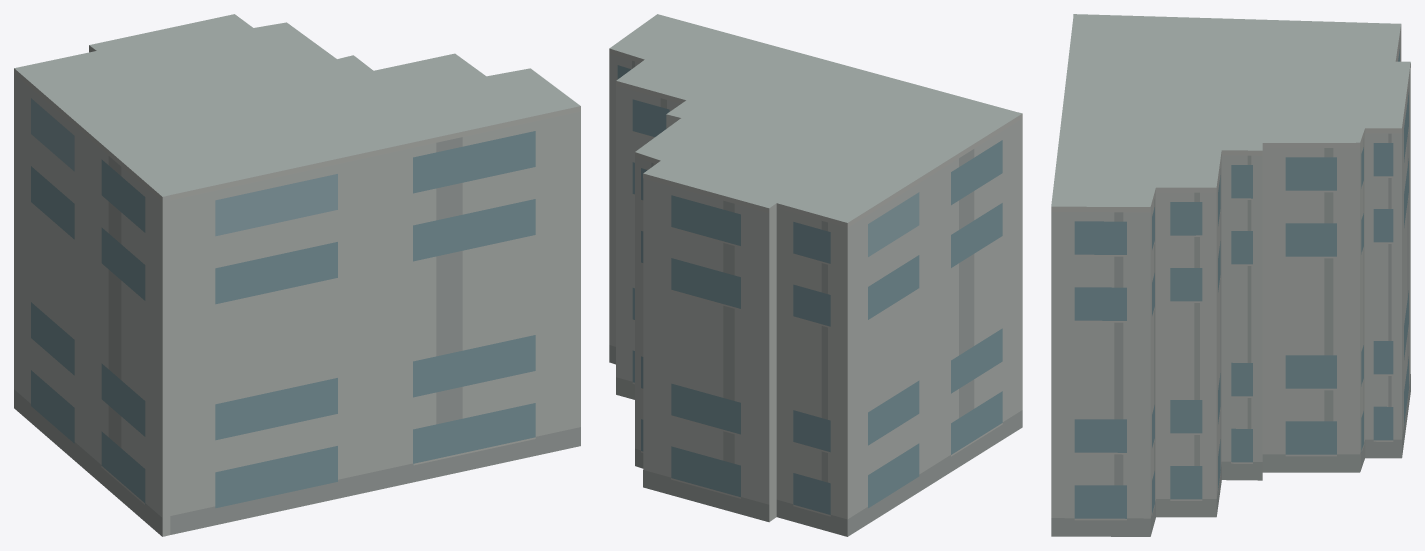
Rendered from survey-upis-32782058.glb.
3 renders of one model, left to right at view 1: azimuth 30°, elevation 25°; view 2: azimuth 150°, elevation 25°; view 3: azimuth 270°, elevation 25°, orthographic. The views are drawn at different scales.
Parts seen in each view (by area): view 1: survey-upis-32782058.tmp; view 2: survey-upis-32782058.tmp; view 3: survey-upis-32782058.tmp.
Boxes of the visible parts, box(x1,y1,x2,y2) form: survey-upis-32782058.tmp: box(14, 14, 580, 536); survey-upis-32782058.tmp: box(609, 14, 1022, 536); survey-upis-32782058.tmp: box(1051, 14, 1410, 536).
Bounding box in the file's own units: 19.22 × 15.3 × 15.13.
